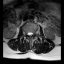CCS_normal: (29, 29, 31, 39)
LFS_stenosis: (33, 30, 35, 36)
LLS_normal: (31, 30, 33, 37)
RFS_stenosis: (24, 30, 27, 37)
RLS_normal: (27, 30, 29, 36)
